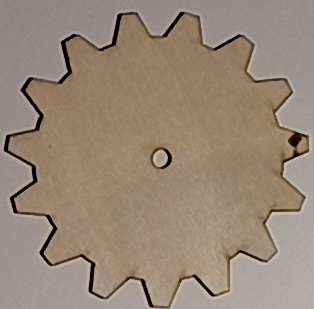Points: (286, 130, 305, 157)
